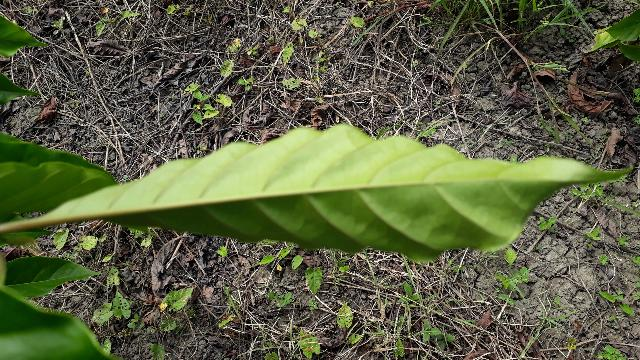healthy: (0, 125, 629, 266)
